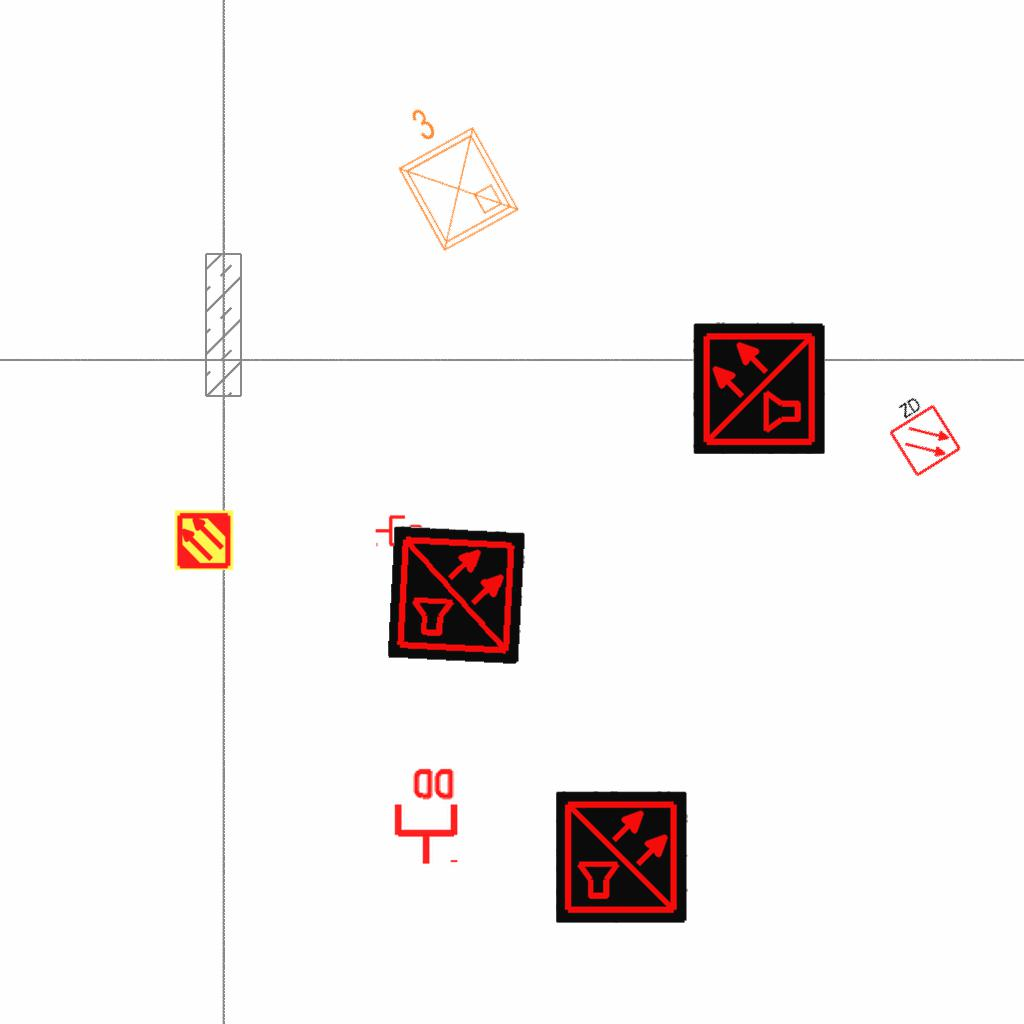ASR_Ansaugrauchmelder: (173, 509, 235, 571)
Datenanschluss_zweifach: (390, 764, 459, 867), (374, 513, 425, 547)
Einbaudownlights_LED_Konferenzraeume: (365, 81, 529, 263)
OKW_Multisensormelder_(Kombination_optischer_Rauch-Kahlenmonoxid_Waerme-Melder): (387, 525, 527, 665), (556, 791, 688, 923), (693, 322, 825, 454)
ZD_Melder_in_Zwischendecke_mit_Revisionsoeffnung_mind_40_x_40_cm: (875, 386, 964, 480)
